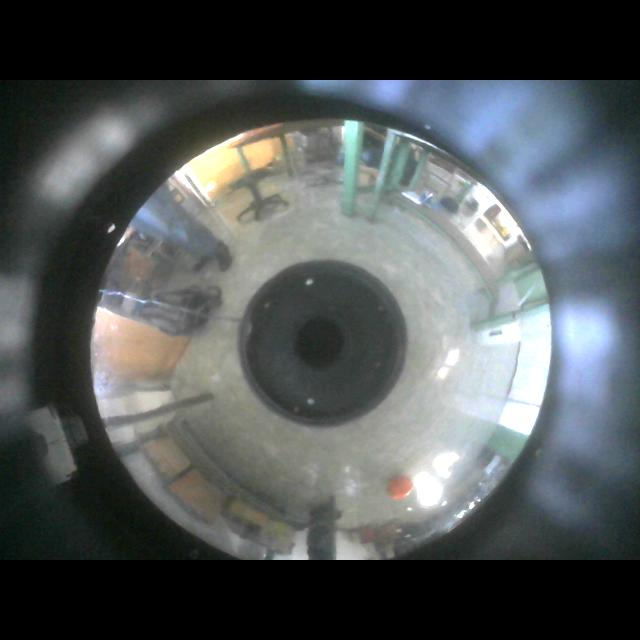bola: (388, 476, 412, 499)
